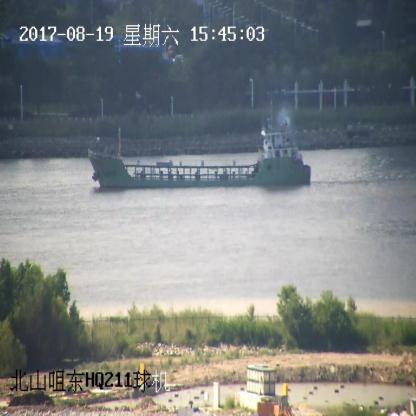Bulk Carrier: (88, 108, 312, 186)
